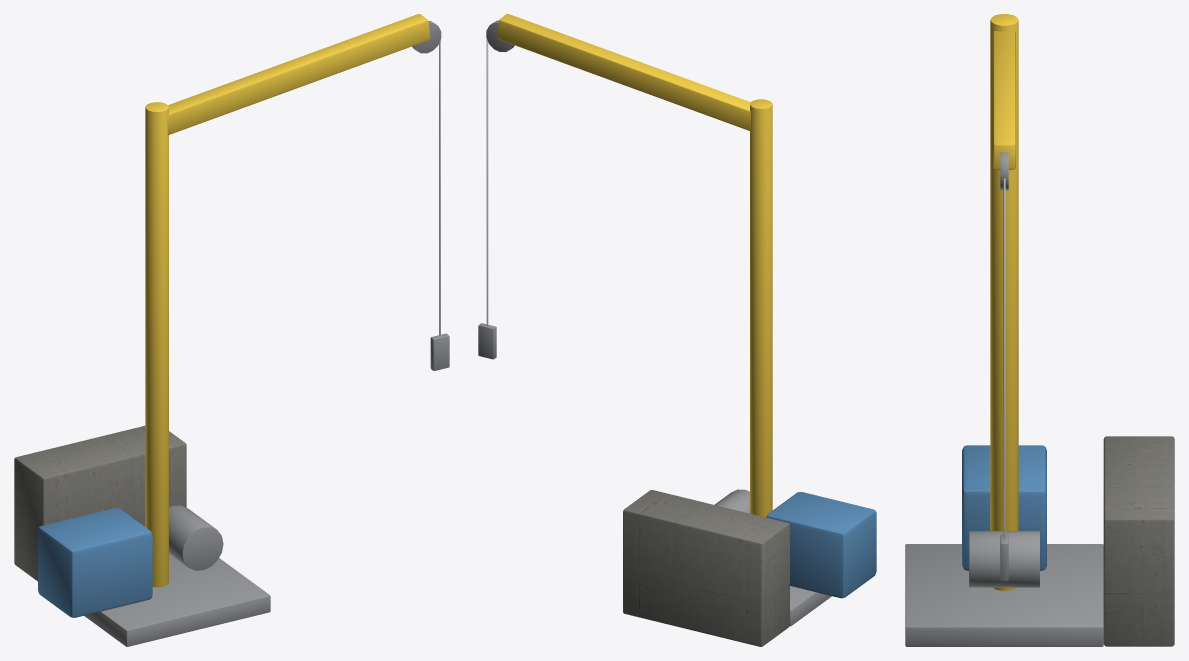
Rendered from EQP-ELV-001_anim.glb.
The picture shows the model from 3 angles, left to right: view 1: azimuth 30°, elevation 25°; view 2: azimuth 150°, elevation 25°; view 3: azimuth 270°, elevation 25°; orthographic projection. The views are drawn at different scales.
Parts seen in each view (by area): view 1: EQP-ELV-001_anim4, EQP-ELV-001_anim2, EQP-ELV-001_anim3, EQP-ELV-001_anim1; view 2: EQP-ELV-001_anim4, EQP-ELV-001_anim2, EQP-ELV-001_anim0, EQP-ELV-001_anim1; view 3: EQP-ELV-001_anim4, EQP-ELV-001_anim3, EQP-ELV-001_anim2, EQP-ELV-001_anim0, EQP-ELV-001_anim1.
Boxes of the visible parts, left/top/right/bottom form: EQP-ELV-001_anim4: left=14, top=102, right=270, bottom=646; EQP-ELV-001_anim2: left=167, top=14, right=441, bottom=135; EQP-ELV-001_anim3: left=169, top=505, right=223, bottom=570; EQP-ELV-001_anim1: left=430, top=333, right=449, bottom=370; EQP-ELV-001_anim4: left=623, top=99, right=876, bottom=646; EQP-ELV-001_anim2: left=486, top=14, right=750, bottom=131; EQP-ELV-001_anim0: left=486, top=39, right=488, bottom=325; EQP-ELV-001_anim1: left=478, top=323, right=496, bottom=359; EQP-ELV-001_anim4: left=905, top=14, right=1174, bottom=646; EQP-ELV-001_anim3: left=969, top=531, right=1039, bottom=587; EQP-ELV-001_anim2: left=993, top=31, right=1015, bottom=190; EQP-ELV-001_anim0: left=1003, top=178, right=1005, bottom=538; EQP-ELV-001_anim1: left=1000, top=534, right=1008, bottom=581.
Bounding box in the file's own units: 1.91 × 2.4 × 0.95.
Materials: 5 (1 with a texture image).
